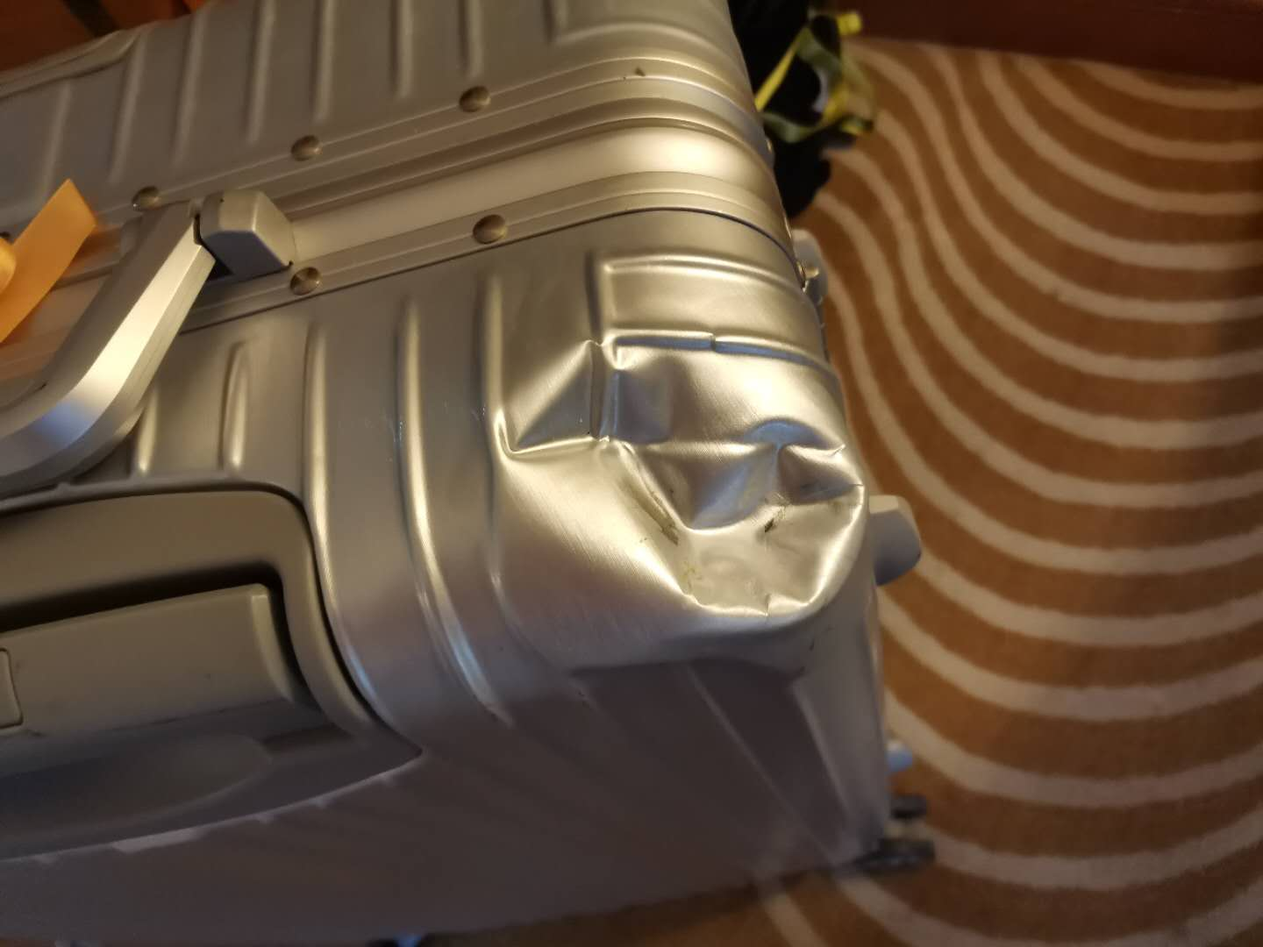hollow: (488, 337, 869, 644)
